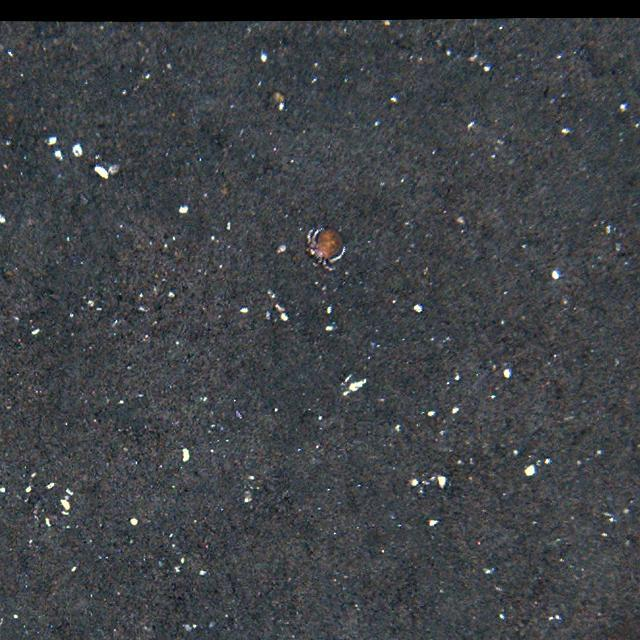crab: (304, 222, 347, 272)
